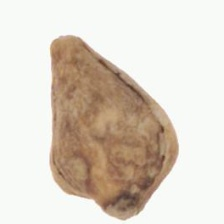L1: (47, 32, 94, 73), (90, 188, 149, 218)
L2: (48, 35, 180, 219)
